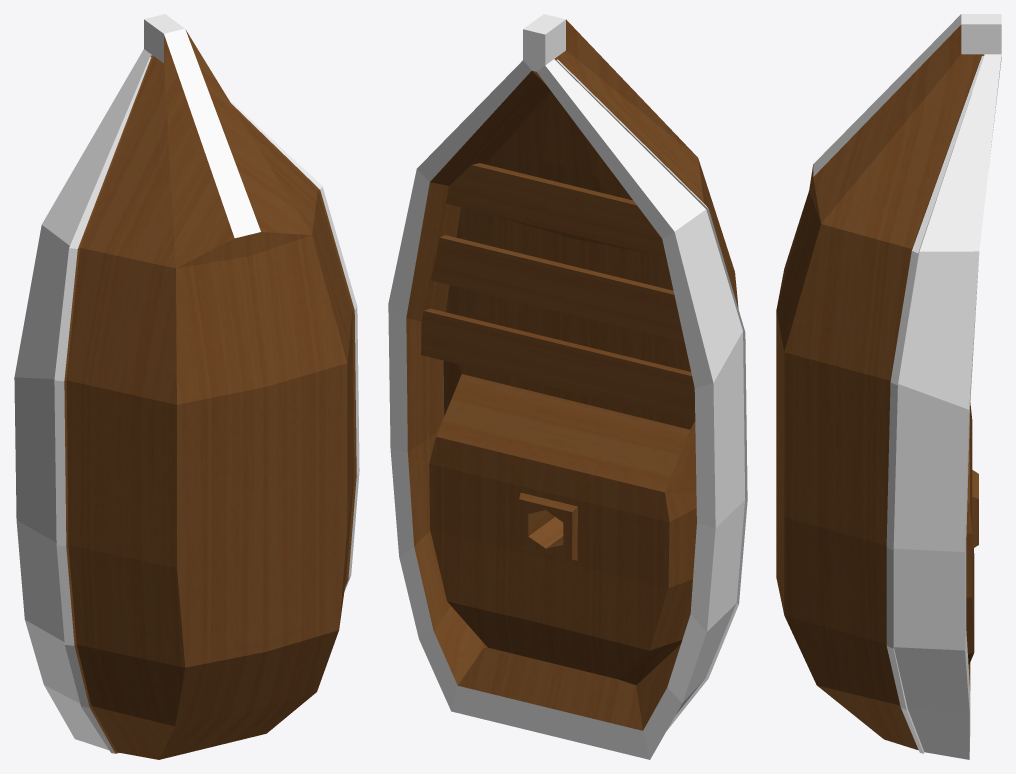
The model's file is body_1.fbx.
3 renders of one model, left to right at view 1: azimuth 30°, elevation 25°; view 2: azimuth 150°, elevation 25°; view 3: azimuth 270°, elevation 25°, orthographic. The views are drawn at different scales.
Visible parts, largest first — view 1: Cube.005; view 2: Cube.005; view 3: Cube.005.
Boxes of the visible parts, bbox=[...] form: Cube.005: bbox=[14, 14, 359, 759]; Cube.005: bbox=[388, 14, 747, 759]; Cube.005: bbox=[776, 14, 1001, 759].
Size of the model in its own units: 93.45 by 197 by 57.85.
